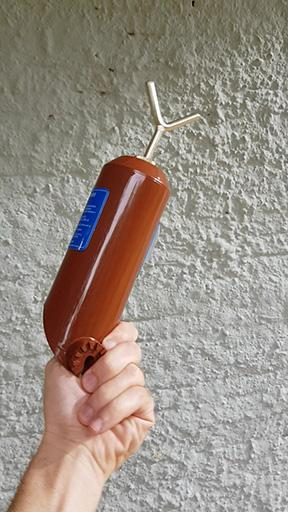Detector_Tensao_Contato: (43, 83, 202, 371)
